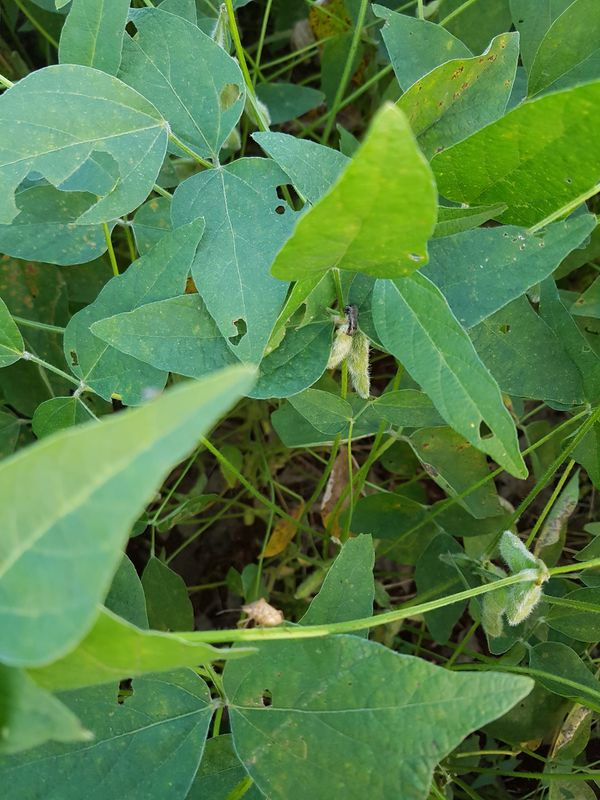Euschistus_heros_adulto: (217, 591, 291, 642)
Spodoptera_albula: (330, 301, 371, 342)
